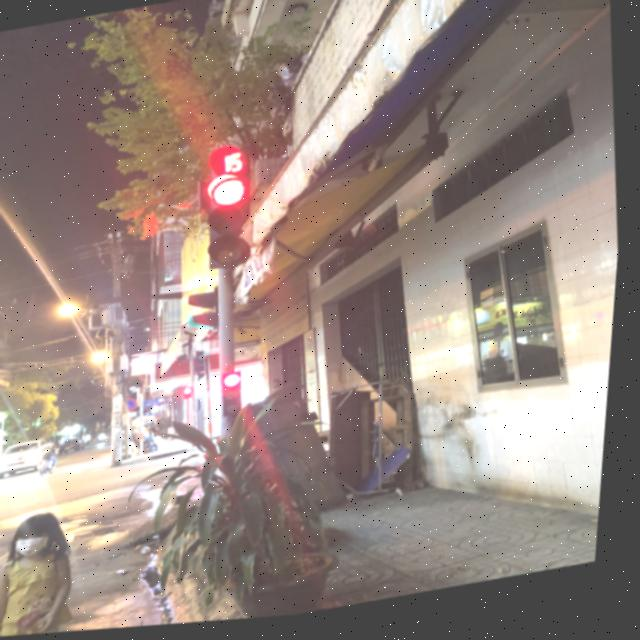Red: (192, 170, 263, 278), (221, 366, 254, 422)
